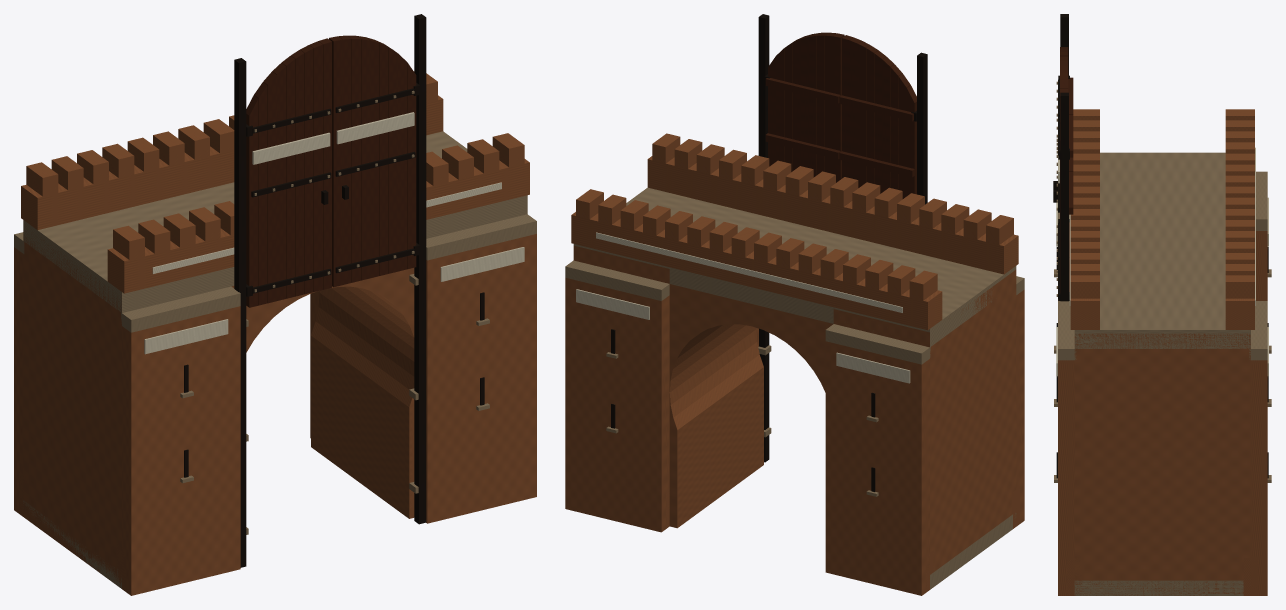
Rendered from Berber_StoneGate_Age2_Open.fbx.
3 renders of one model, left to right at view 1: azimuth 30°, elevation 25°; view 2: azimuth 150°, elevation 25°; view 3: azimuth 270°, elevation 25°, orthographic. The views are drawn at different scales.
Parts seen in each view (by area): view 1: left_projecting_tower_face, left_tower_pier, right_projecting_tower_face, continuous_horseshoe_gateway, continuous_rampart_deck, walkway_parapet.001, walkway_parapet, right_gateway_jamb, portcullis_guide_track.001, portcullis_guide_track, left_tower_ledge, right_door_plank_8 (+40 smaller); view 2: left_projecting_tower_face.001, right_projecting_tower_face.001, left_tower_pier, continuous_horseshoe_gateway, continuous_rampart_deck, walkway_parapet, walkway_parapet.001, portcullis_guide_track.001, parapet_owner_band.001, left_tower_ledge.001, right_tower_ledge.001, left_projecting_tower_face (+60 smaller); view 3: right_tower_pier, continuous_rampart_deck, right_projecting_tower_face.001, right_projecting_tower_face, right_rubble_plinth, portcullis_guide_track.001, walkway_parapet, walkway_parapet.001, right_tower_ledge.001, right_tower_ledge, left_projecting_tower_face.001, crenellation.015 (+35 smaller).
Part boxes in pixels (x1,y1,x2,y2): left_projecting_tower_face: (122,306,240,595); left_tower_pier: (23,229,121,586); right_projecting_tower_face: (426,234,536,523); continuous_horseshoe_gateway: (231,268,414,518); continuous_rampart_deck: (23,131,527,312); walkway_parapet.001: (21,95,443,230); walkway_parapet: (107,159,529,293); right_gateway_jamb: (311,395,414,518); portcullis_guide_track.001: (414,14,426,524); portcullis_guide_track: (234,58,246,567); left_tower_ledge: (121,286,240,332); right_door_plank_8: (329,36,342,287); left_projecting_tower_face.001: (825,341,929,595); right_projecting_tower_face.001: (565,277,669,532); left_tower_pier: (833,269,1016,571); continuous_horseshoe_gateway: (669,284,833,528); continuous_rampart_deck: (573,187,1016,346); walkway_parapet: (647,156,1018,274); walkway_parapet.001: (571,212,942,330); portcullis_guide_track.001: (758,14,769,462); parapet_owner_band.001: (596,232,902,312); left_tower_ledge.001: (825,324,930,364); right_tower_ledge.001: (565,260,669,300); left_projecting_tower_face: (1016,289,1024,523); right_tower_pier: (1074,333,1250,595); continuous_rampart_deck: (1074,152,1250,348); right_projecting_tower_face.001: (1251,360,1267,595); right_projecting_tower_face: (1058,360,1074,595); right_rubble_plinth: (1074,580,1243,595); portcullis_guide_track.001: (1060,92,1068,301); walkway_parapet: (1070,298,1099,329); walkway_parapet.001: (1225,298,1254,329); right_tower_ledge.001: (1249,301,1267,360); right_tower_ledge: (1058,301,1076,360); left_projecting_tower_face.001: (1256,231,1267,300); crenellation.015: (1070,275,1099,298).
Bounding box in the file's own units: 1000 × 1190 × 520.
Materials: 5 (5 with a texture image).
